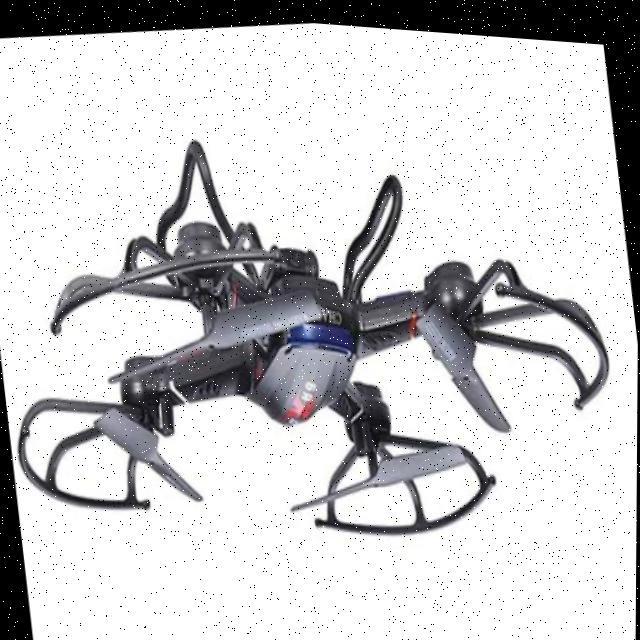drones: (0, 9, 640, 639)
